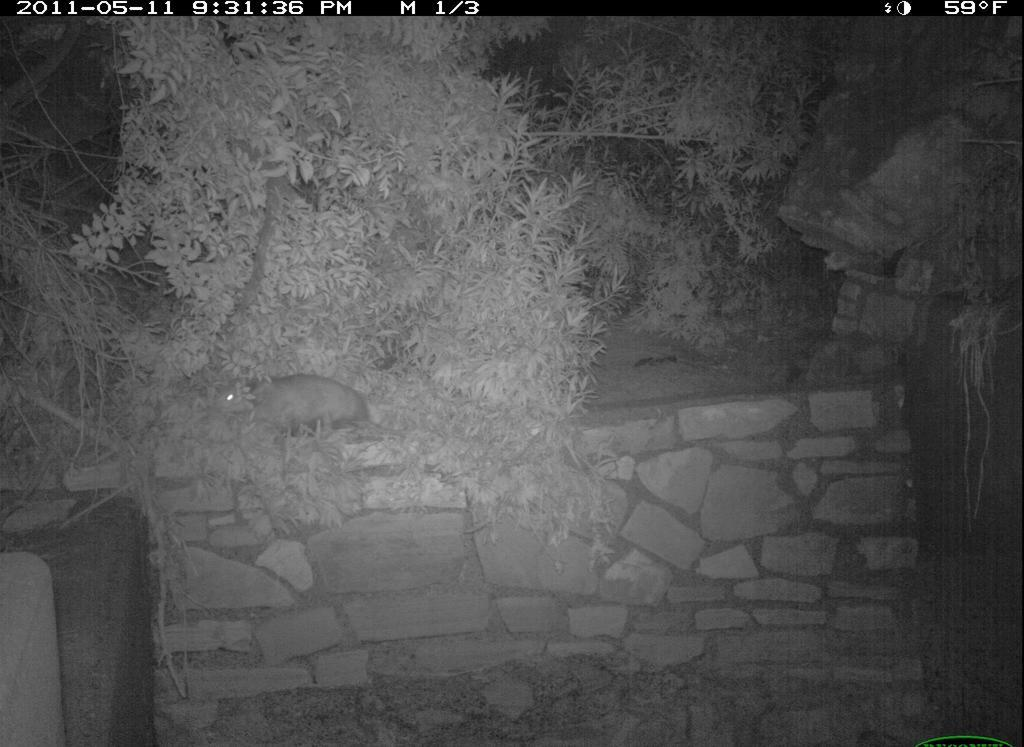opossum: (216, 367, 390, 447)
